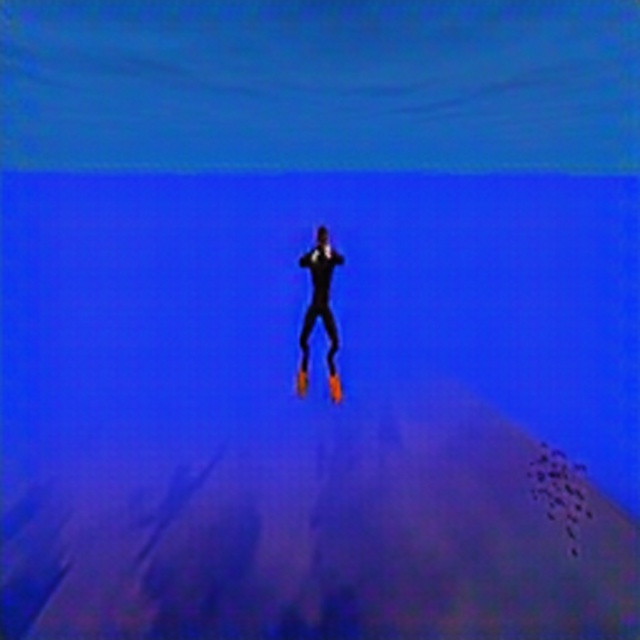diver: (293, 221, 347, 405)
